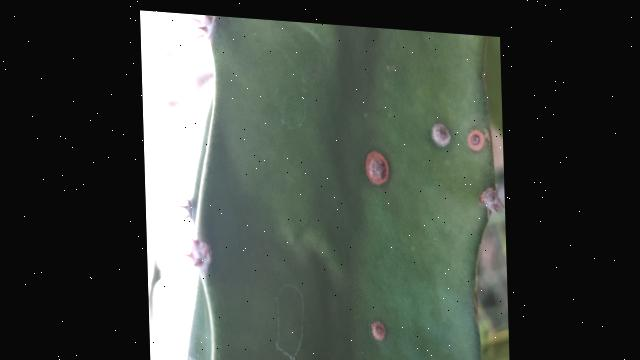stemcanker: (363, 147, 394, 190), (425, 120, 456, 151), (463, 125, 489, 156), (363, 316, 388, 346)
